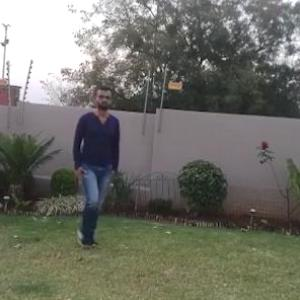follow: (72, 90, 119, 230)
